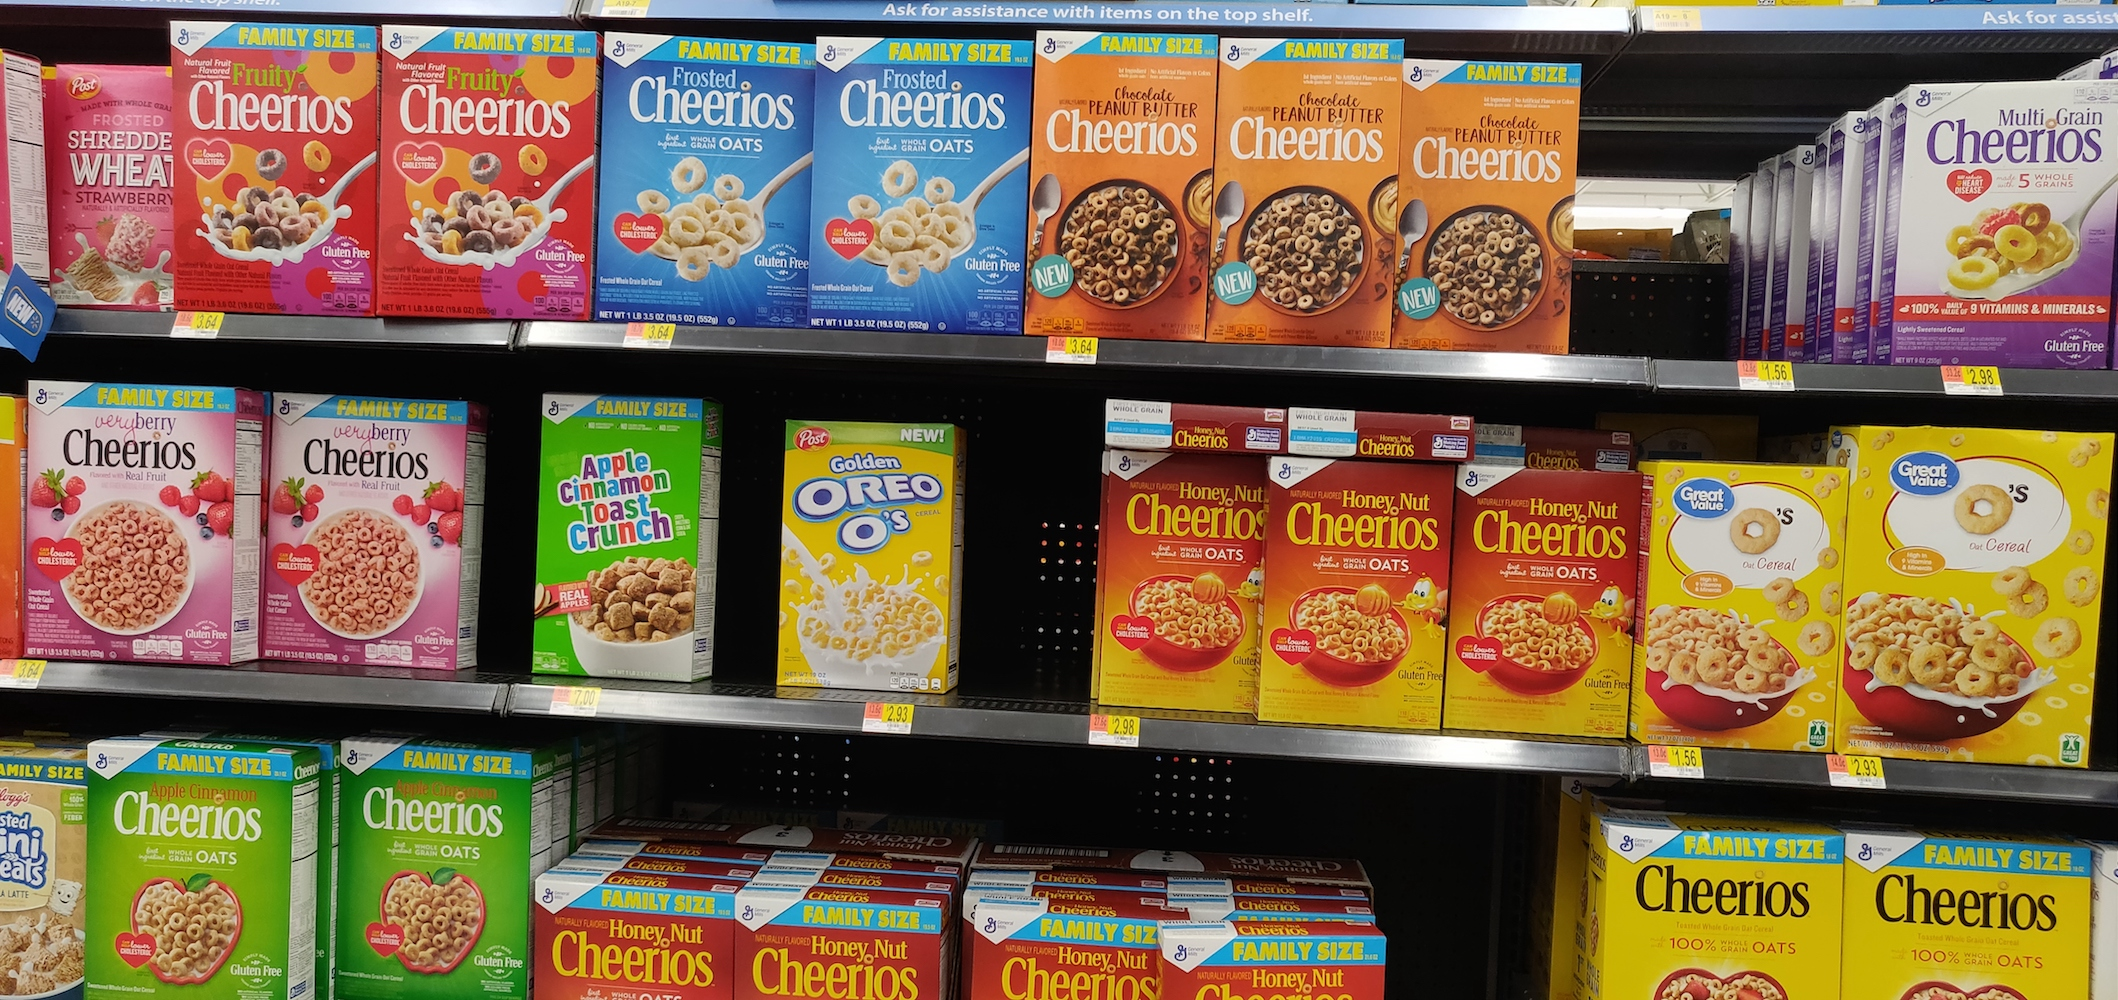Oreo Golden-568301011: (783, 412, 946, 700)
